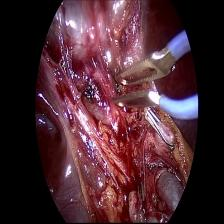Bipolar: (111, 30, 199, 130)
